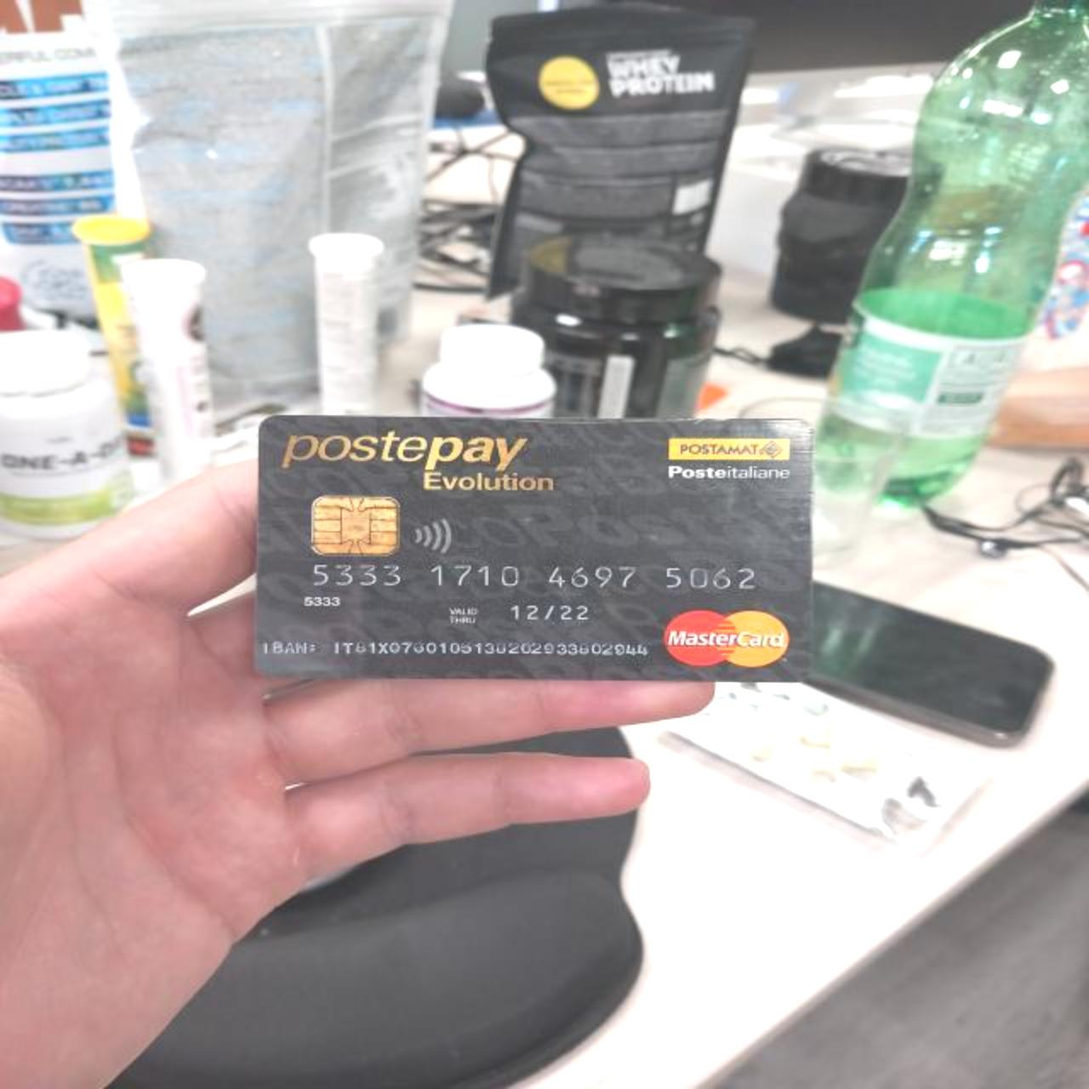credit_card: (252, 398, 827, 677)
